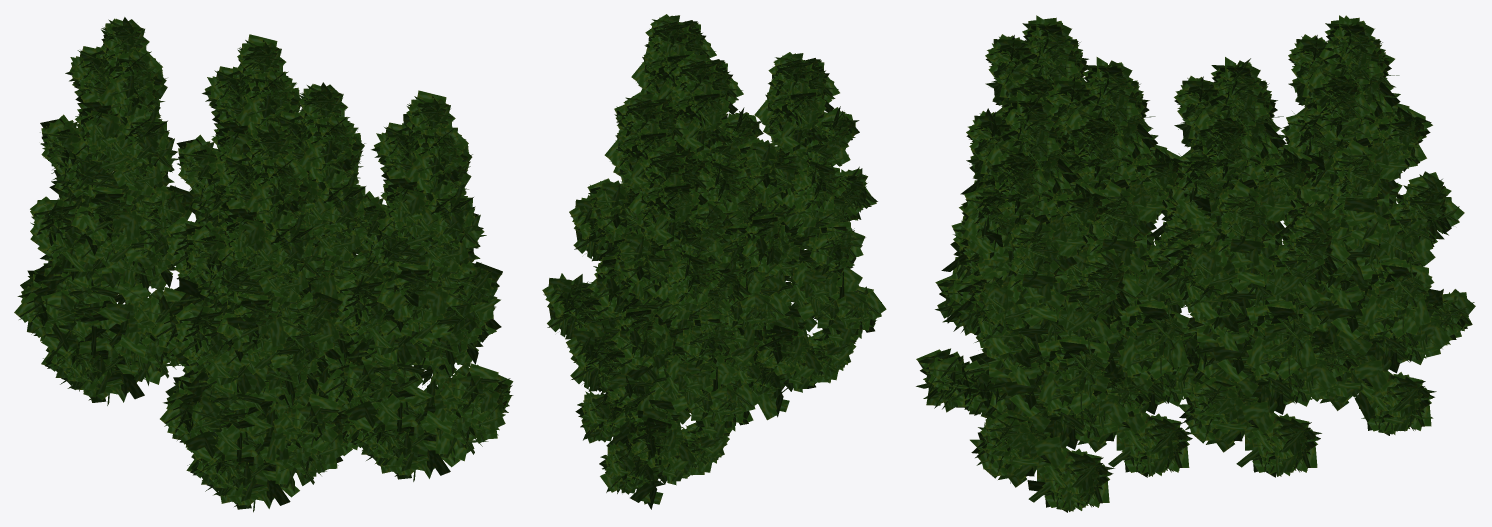
The model's file is PinosHojas.obj.
3 renders of one model, left to right at view 1: azimuth 30°, elevation 25°; view 2: azimuth 150°, elevation 25°; view 3: azimuth 270°, elevation 25°, orthographic. The views are drawn at different scales.
Visible parts, largest first — view 1: leaves.002, leaves.004, leaves.003, leaves, leaves.001; view 2: leaves.003, leaves.002, leaves.001, leaves, leaves.004; view 3: leaves.004, leaves.001, leaves.003, leaves, leaves.002.
Part boxes in pixels (box(x1,y1,x2,y2)): leaves.002: box(160, 123, 353, 512); leaves.004: box(320, 90, 513, 481); leaves.003: box(14, 17, 193, 405); leaves: box(257, 82, 397, 462); leaves.001: box(151, 34, 321, 378); leaves.003: box(566, 144, 759, 509); leaves.002: box(710, 52, 886, 420); leaves.001: box(542, 92, 736, 446); leaves: box(596, 53, 790, 412); leaves.004: box(569, 14, 742, 261); leaves.004: box(916, 92, 1153, 512); leaves.001: box(1124, 57, 1361, 477); leaves.003: box(1275, 15, 1475, 435); leaves: box(1036, 57, 1219, 477); leaves.002: box(935, 15, 1161, 335).
Bounding box in the file's own units: 13.71 × 15.23 × 18.68.
